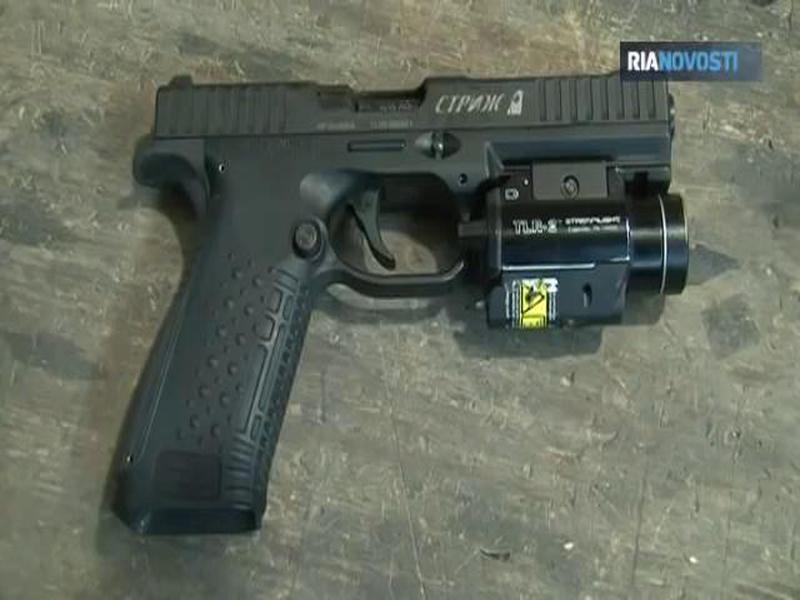Pistola: (109, 64, 677, 544)
